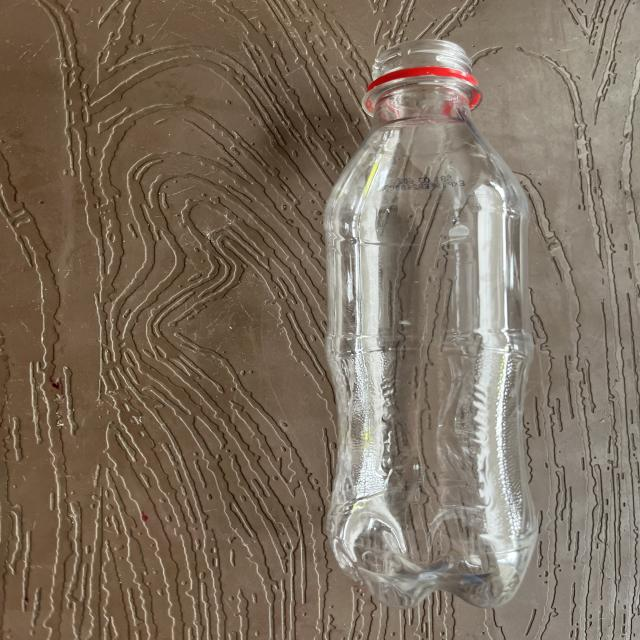PET_With_Cap: (313, 30, 544, 620)
